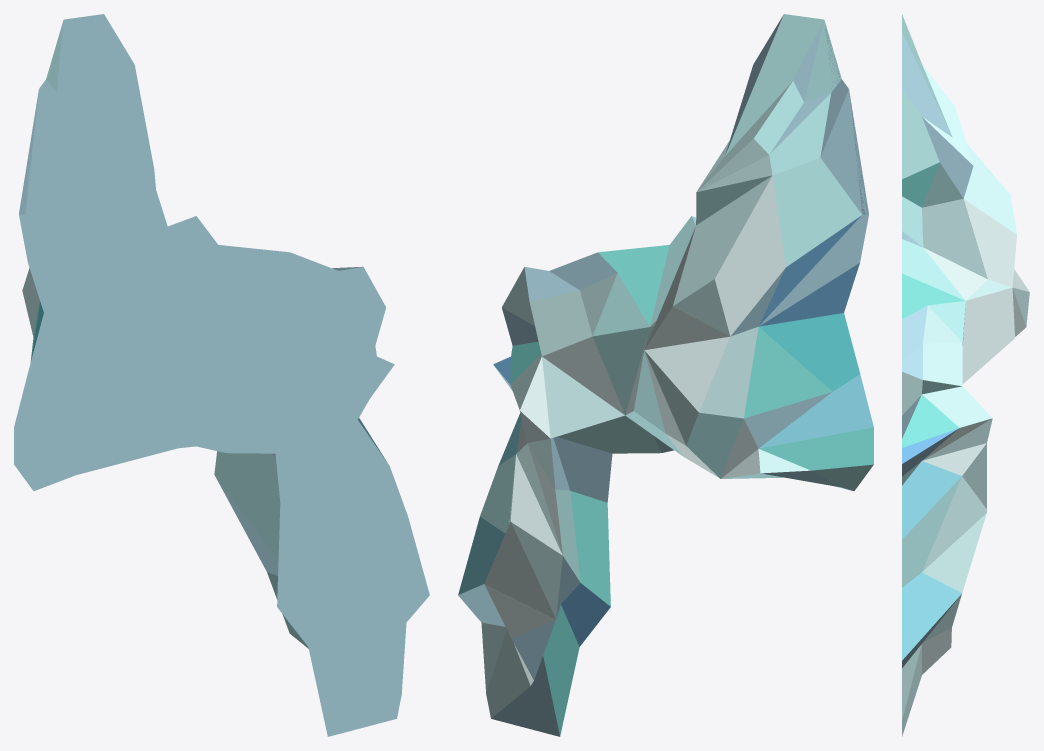
File: winter_mountain_4.fbx
3 renders of one model, left to right at view 1: azimuth 30°, elevation 25°; view 2: azimuth 150°, elevation 25°; view 3: azimuth 270°, elevation 25°, orthographic. The views are drawn at different scales.
Visible parts, largest first — view 1: winter_mountain_4; view 2: winter_mountain_4; view 3: winter_mountain_4.
Boxes of the visible parts, box(x1,y1,x2,y2) form: winter_mountain_4: box(14, 14, 429, 736); winter_mountain_4: box(458, 14, 873, 736); winter_mountain_4: box(902, 14, 1029, 736).
Bounding box in the file's own units: 586 × 1054 × 204.
